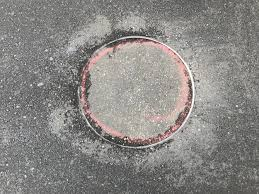Manhole-Closed: (68, 32, 206, 152)
